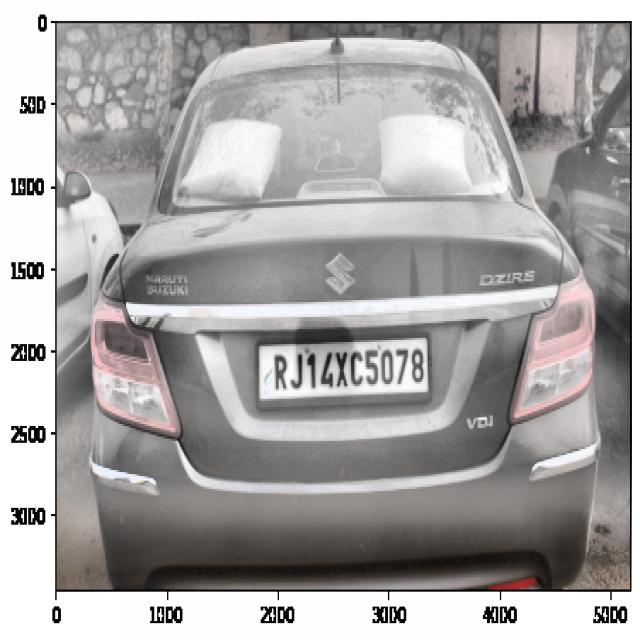license_plate: (268, 346, 431, 398)
